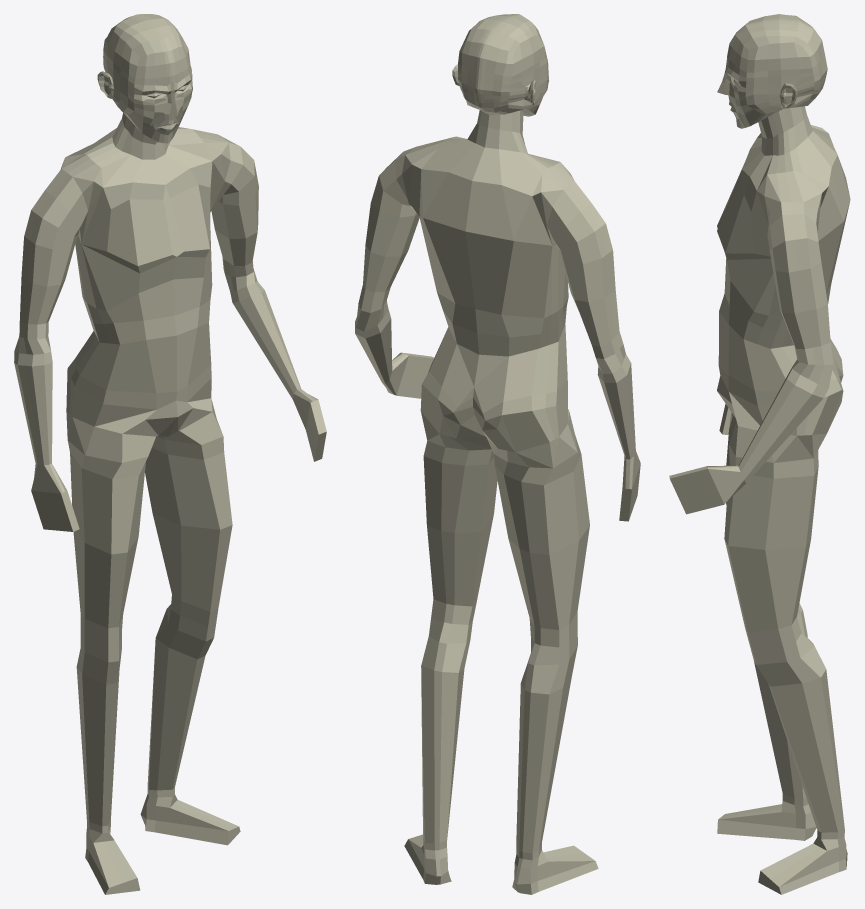
The model's file is Mannequin_Prototype.fbx.
3 renders of one model, left to right at view 1: azimuth 30°, elevation 25°; view 2: azimuth 150°, elevation 25°; view 3: azimuth 270°, elevation 25°, orthographic. The views are drawn at different scales.
Parts seen in each view (by area): view 1: polySurface1, pasted__pCube1; view 2: polySurface1, pasted__pCube1; view 3: polySurface1, pasted__pCube1.
Boxes of the visible parts, bbox=[...] form: polySurface1: bbox=[14, 113, 326, 894]; pasted__pCube1: bbox=[97, 14, 192, 143]; polySurface1: bbox=[355, 110, 640, 894]; pasted__pCube1: bbox=[452, 14, 548, 116]; polySurface1: bbox=[669, 106, 850, 894]; pasted__pCube1: bbox=[717, 14, 827, 128].
Bounding box in the file's own units: 156 × 471 × 93.02.
